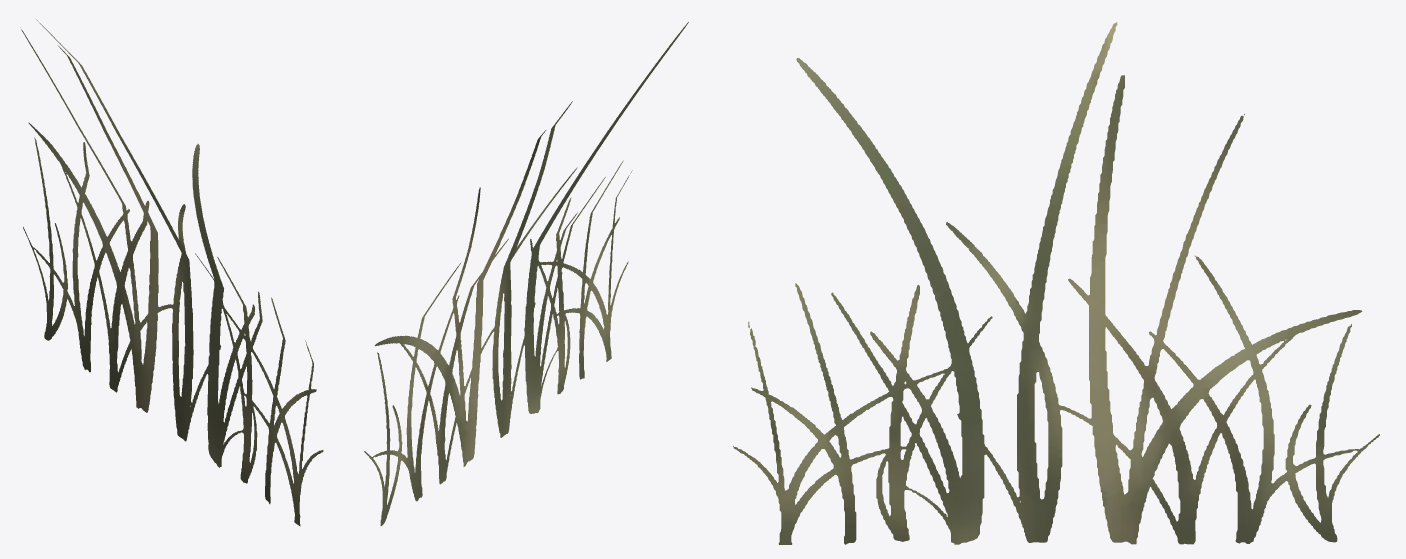
The model's file is Grass - Grass1 1-CKZdnyAx.glb.
The picture shows the model from 3 angles, left to right: view 1: azimuth 30°, elevation 25°; view 2: azimuth 150°, elevation 25°; view 3: azimuth 270°, elevation 25°; orthographic projection. The views are drawn at different scales.
Visible parts, largest first — view 1: Grass1_1_LOD0; view 2: Grass1_1_LOD0; view 3: Grass1_1_LOD0.
Part boxes in pixels (x1=…): Grass1_1_LOD0: x1=20, y1=18, x2=323, y2=526; Grass1_1_LOD0: x1=364, y1=22, x2=688, y2=525; Grass1_1_LOD0: x1=733, y1=22, x2=1379, y2=544.
Bounding box in the file's own units: 0.1025 × 0.3504 × 0.4519.
1 material, 1 textured.
